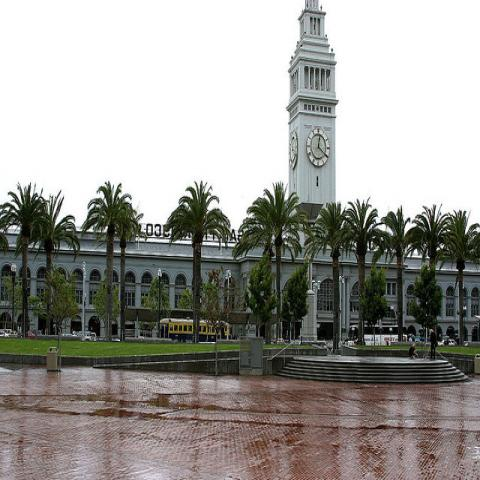bus: (159, 316, 230, 342), (348, 326, 407, 346)
car: (20, 331, 34, 338), (84, 331, 92, 342), (92, 332, 98, 340)
